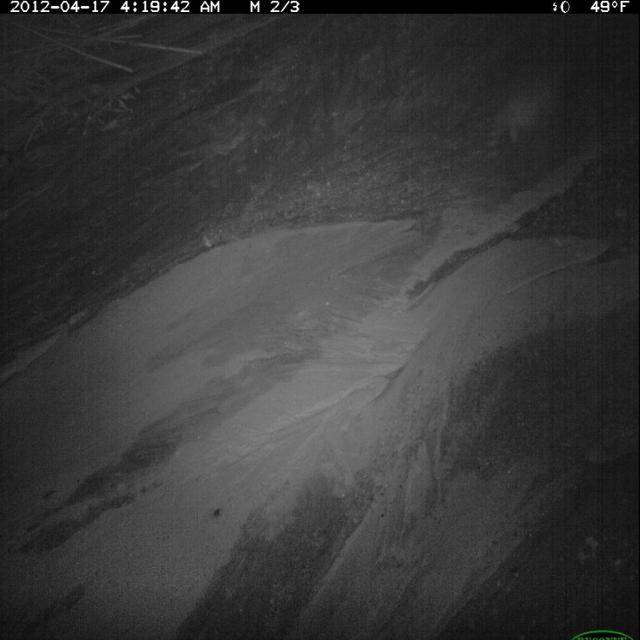raccoon: (483, 65, 572, 170)
